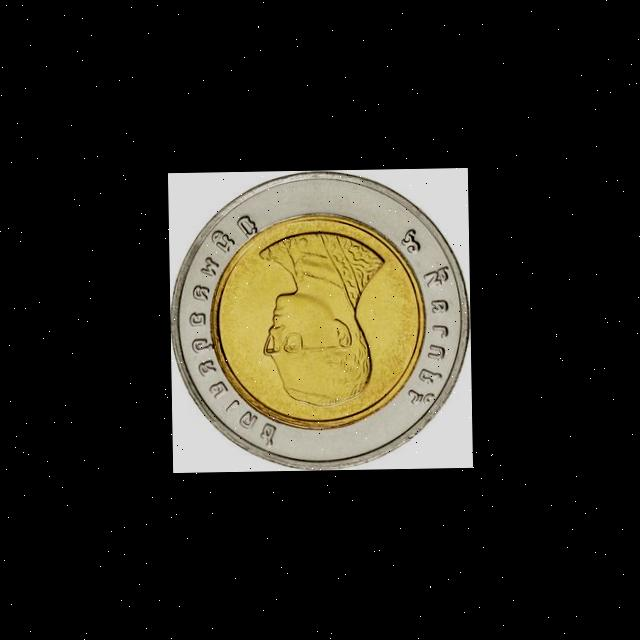10-baht: (168, 168, 472, 472)
